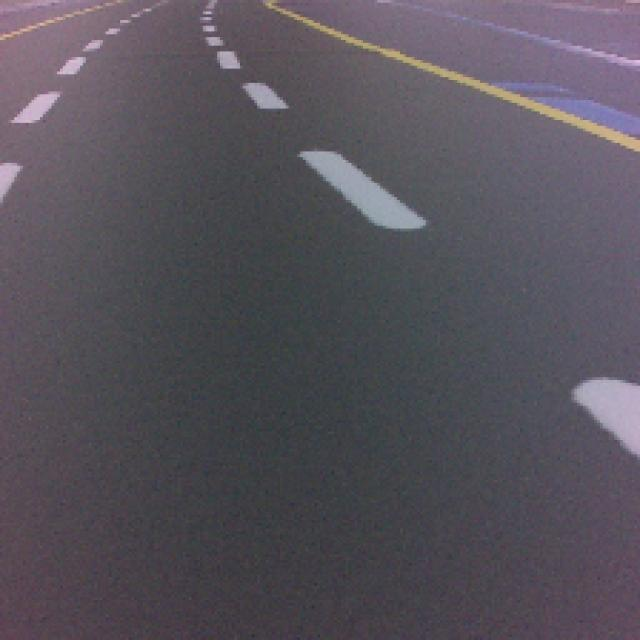Road: (5, 228, 640, 638)
